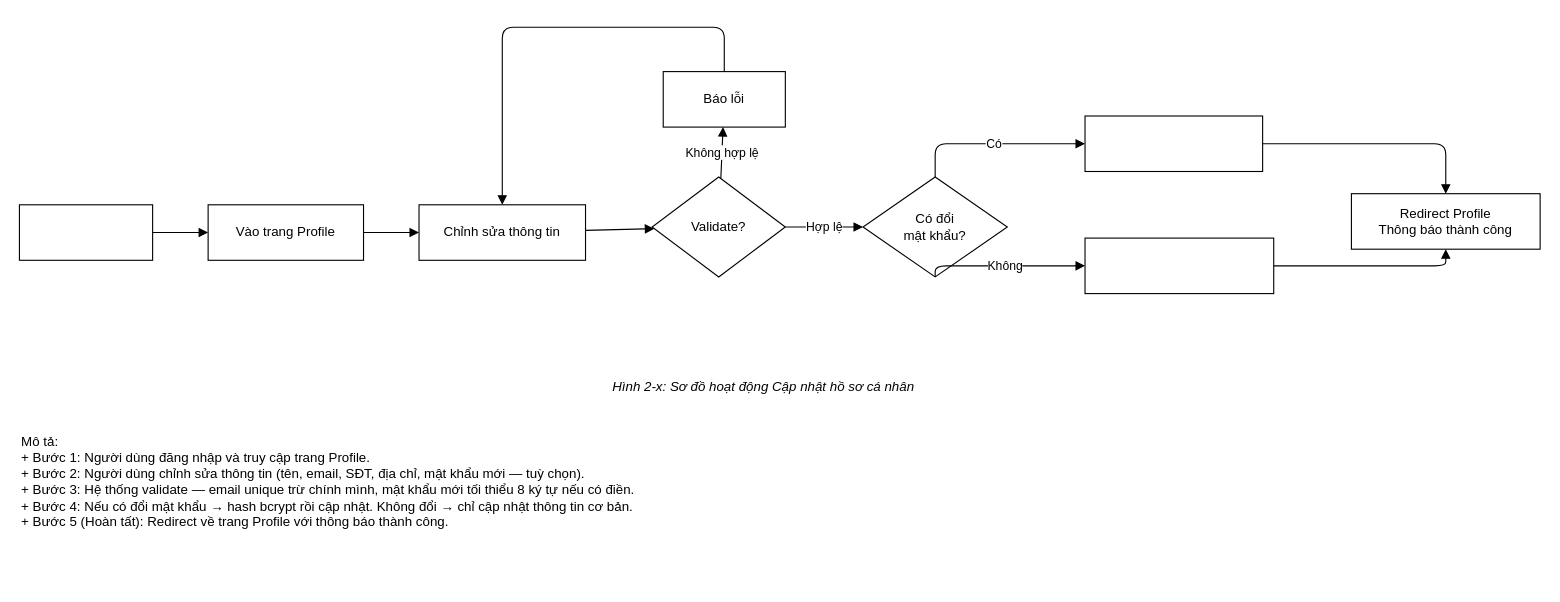
Some shapes in this 1560 by 602 pixel diagram are drawn without their labels. The centre of each missing label's shape, as x and y in pixels:
"Cập nhật thông tin (tên/email/SĐT/địa chỉ)" goes at point (1179, 265).
"Hash + cập nhật mật khẩu mới" goes at point (1173, 143).
"Người dùng" goes at point (85, 232).
